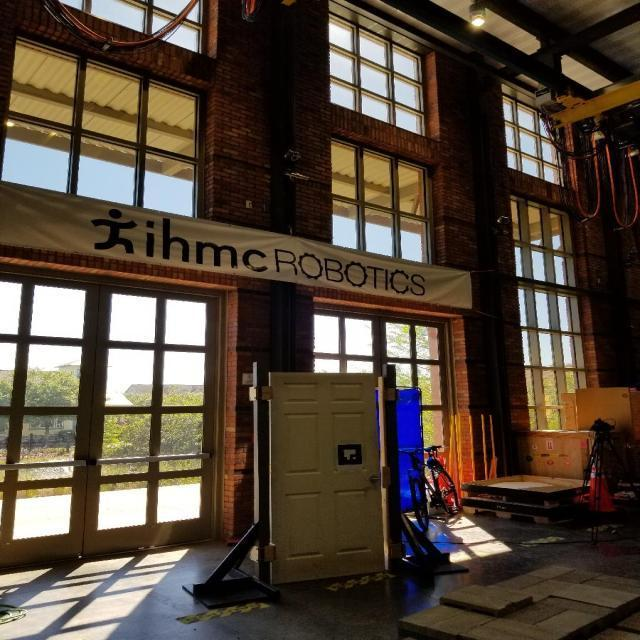door: (265, 371, 387, 586), (363, 473, 384, 483)
